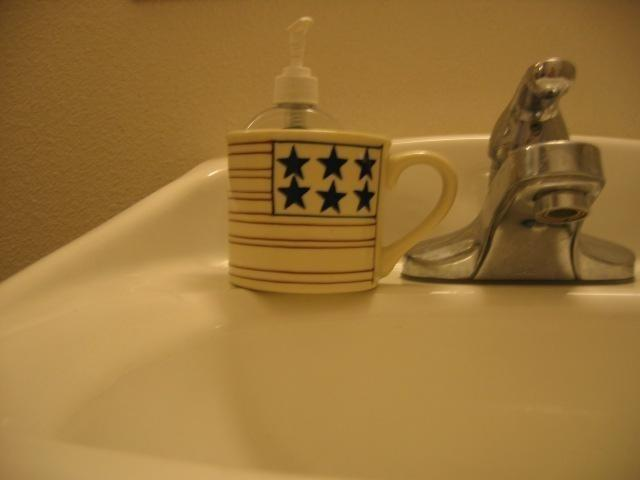cup-handle: (221, 126, 458, 298)
